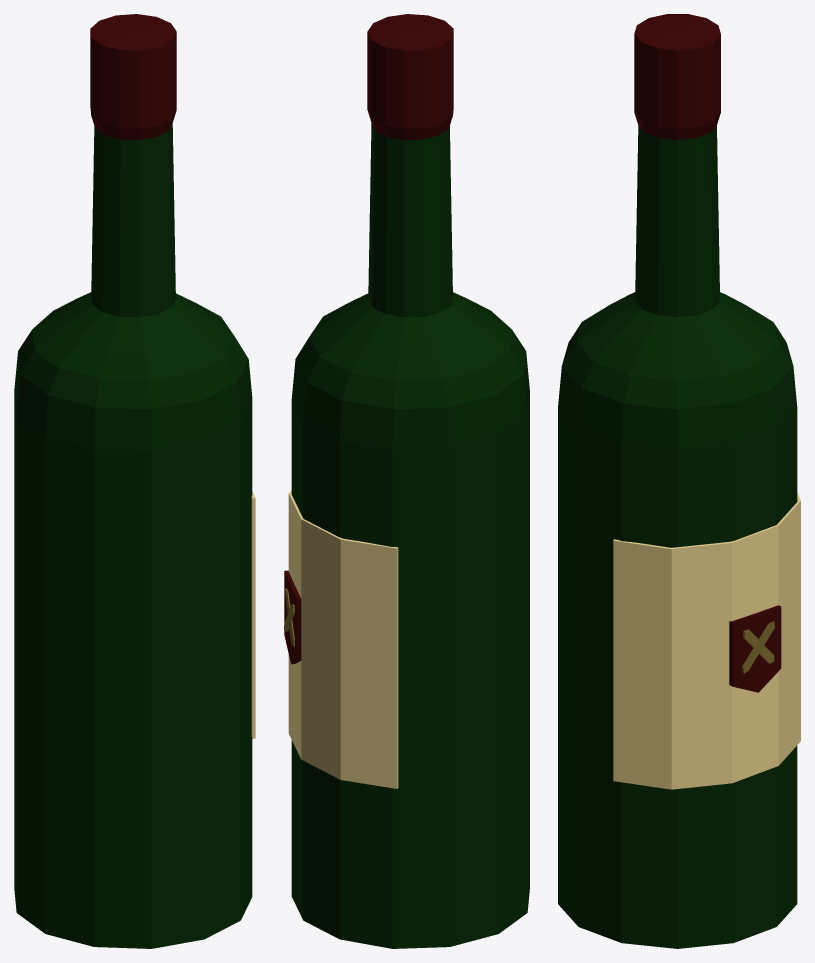
File: Jameson_Bottle.fbx
The picture shows the model from 3 angles, left to right: view 1: azimuth 30°, elevation 25°; view 2: azimuth 150°, elevation 25°; view 3: azimuth 270°, elevation 25°; orthographic projection.
Parts seen in each view (by area): view 1: Bottle1; view 2: Bottle1; view 3: Bottle1.
Part boxes in pixels (x1,y1,x2,y2): Bottle1: (14, 14, 255, 948); Bottle1: (284, 14, 529, 948); Bottle1: (558, 14, 800, 948).
Size of the model in its own units: 2.02 by 7.95 by 2.02.
